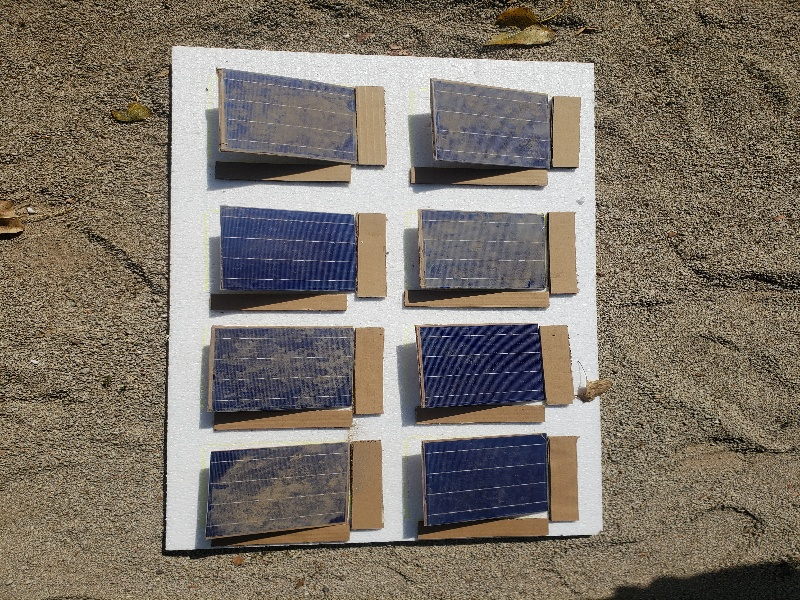clean: (219, 204, 360, 295), (419, 430, 549, 527), (413, 325, 548, 409)
dirty: (205, 445, 349, 541), (215, 69, 357, 166), (412, 212, 556, 295), (429, 80, 557, 173), (211, 330, 357, 410)
